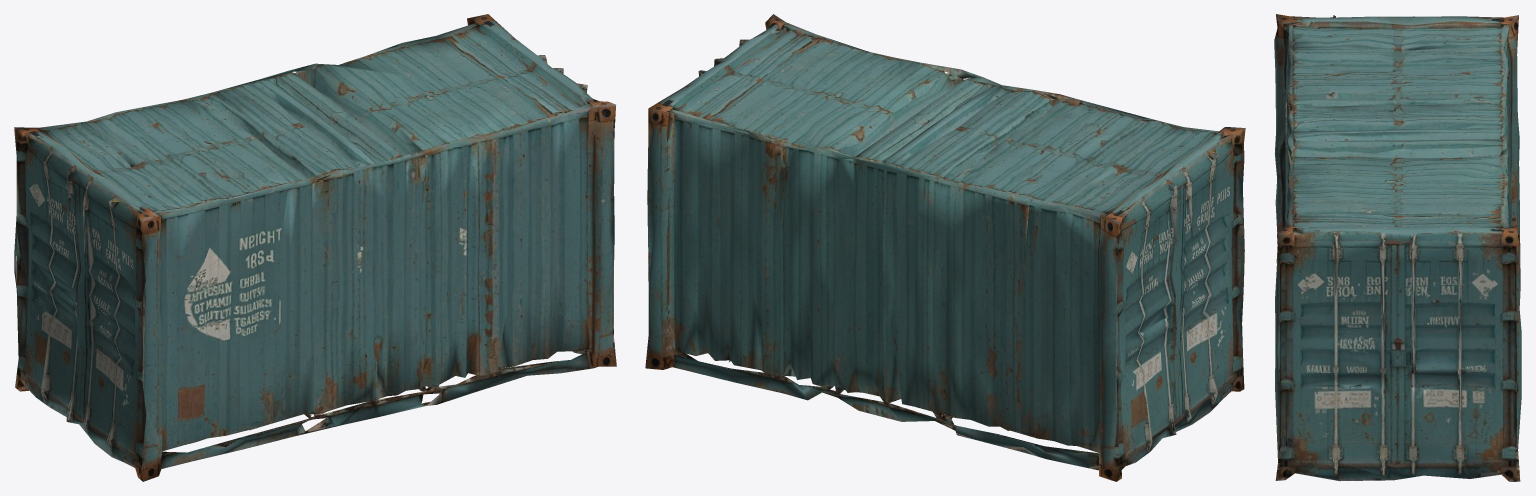
Rendered from Prop_Container.glb.
The picture shows the model from 3 angles, left to right: view 1: azimuth 30°, elevation 25°; view 2: azimuth 150°, elevation 25°; view 3: azimuth 270°, elevation 25°; orthographic projection. The views are drawn at different scales.
Visible parts, largest first — view 1: texture_mapping; view 2: texture_mapping; view 3: texture_mapping.
Part boxes in pixels (box(x1,y1,x2,y2)): texture_mapping: box(14, 14, 616, 481); texture_mapping: box(645, 14, 1245, 481); texture_mapping: box(1274, 14, 1521, 481).
Bounding box in the file's own units: 0.9916 × 0.5189 × 0.4665.
Materials: 1 (1 with a texture image).
